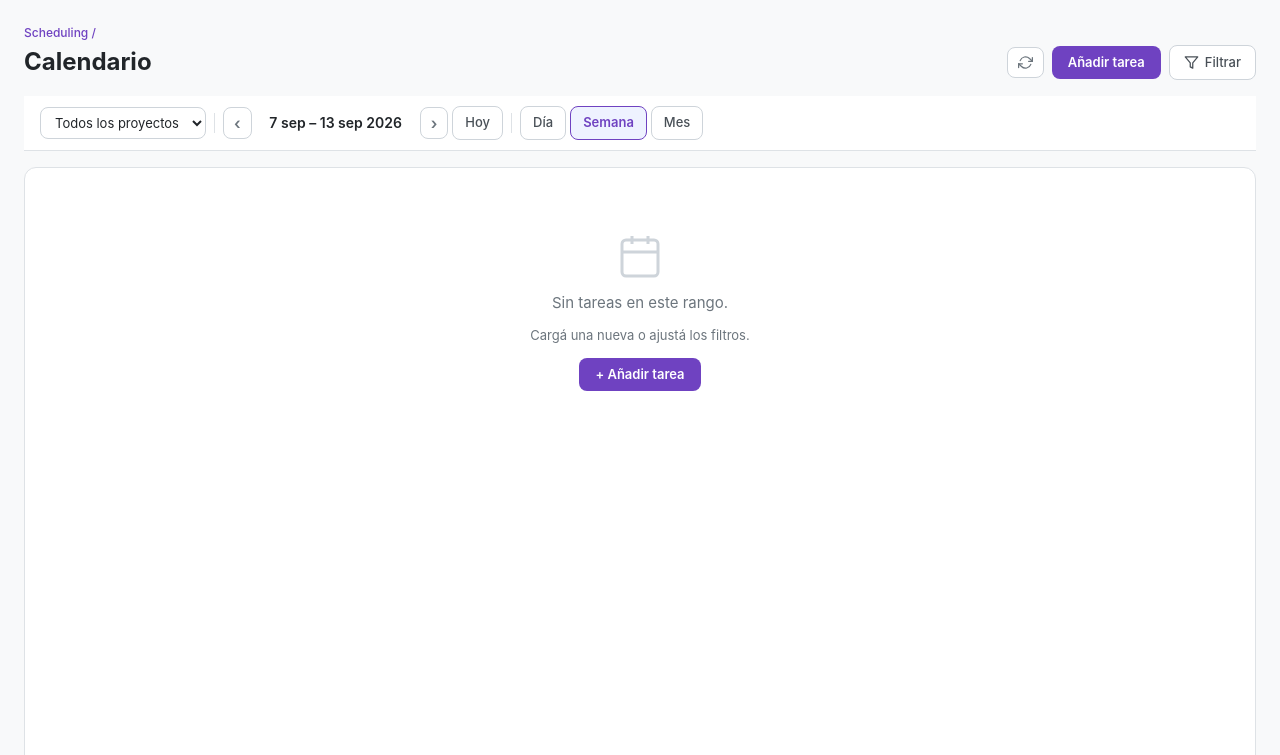
SchedulingCalendarPage — create modal › renders the full create form (Cliente field) instead of the title-only stub
Click the button "Añadir tarea". click: (1106, 62)
box: [1052,46,1161,79]
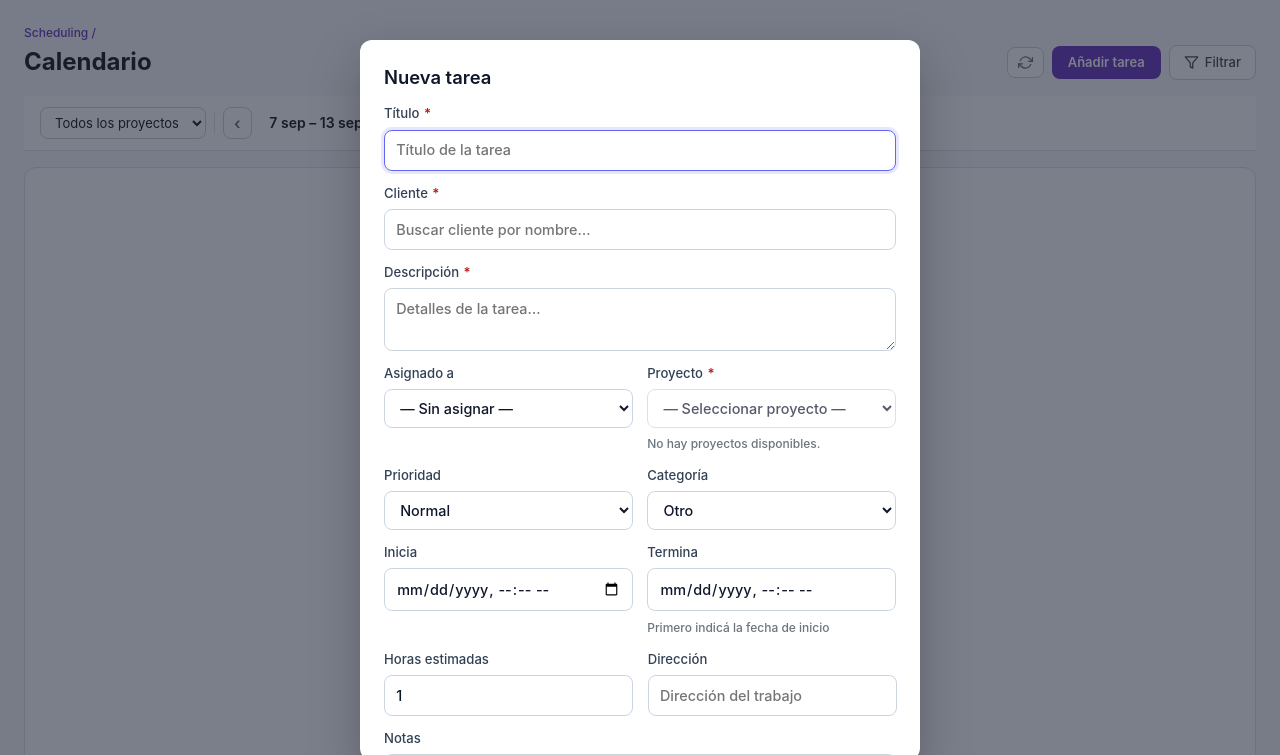
Result: the field with placeholder "Buscar cliente por nombre…" is shown at [384,209,896,250]
